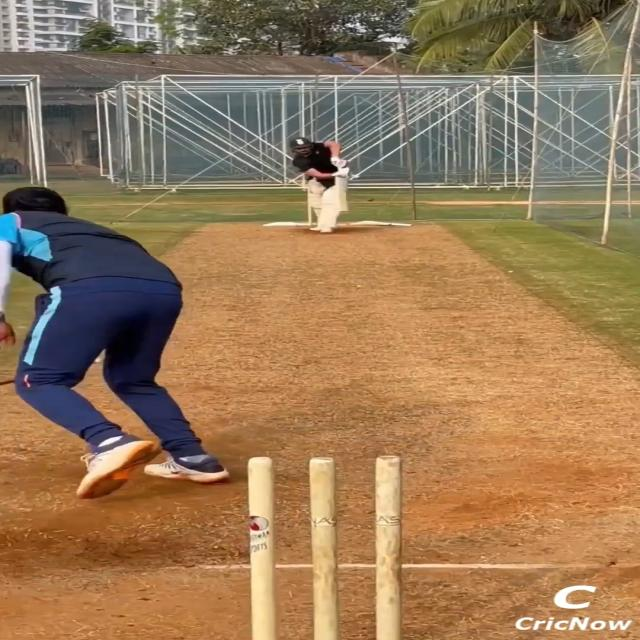stump: (246, 455, 406, 640)
